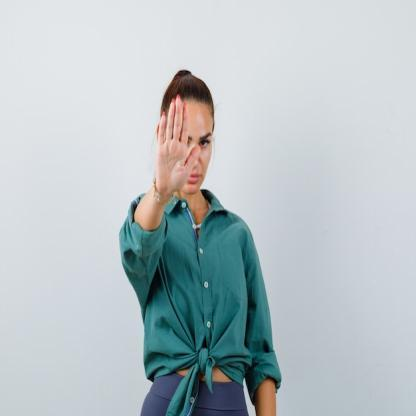stop: (154, 92, 204, 198)
